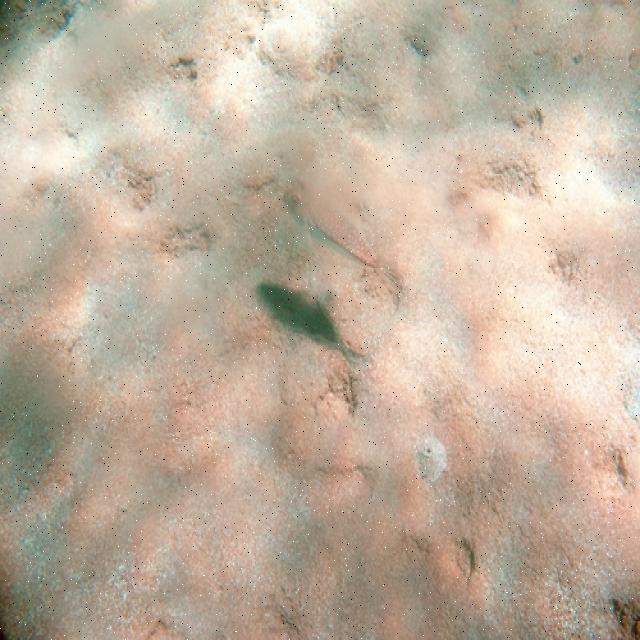Balik: (285, 190, 401, 293)
